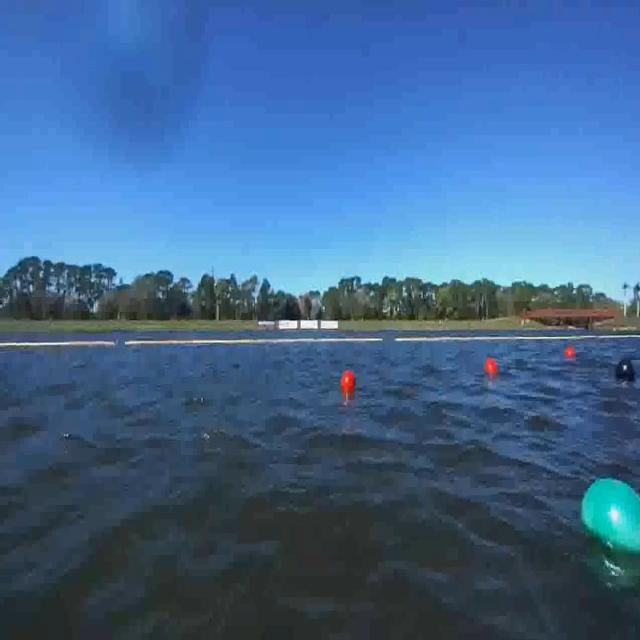black-buoy: (616, 355, 638, 382)
green-buoy: (580, 478, 640, 555)
red-buoy: (344, 370, 356, 392), (486, 358, 499, 374), (565, 347, 576, 360)
